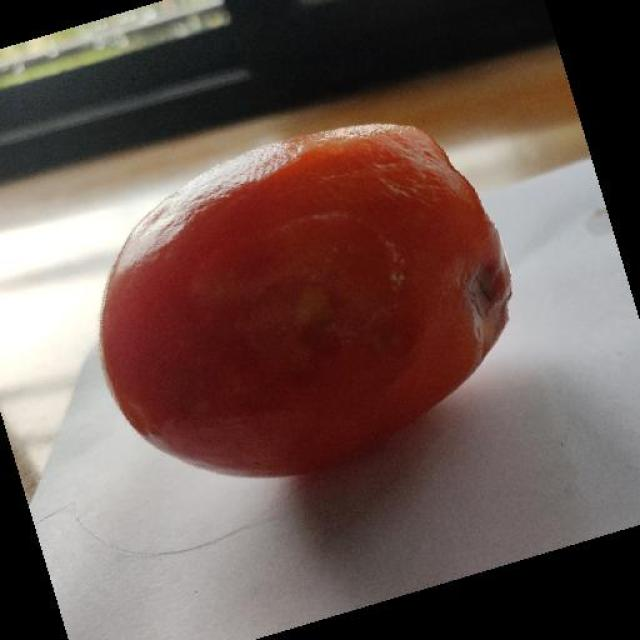Stale_tomato: (77, 156, 527, 437)
